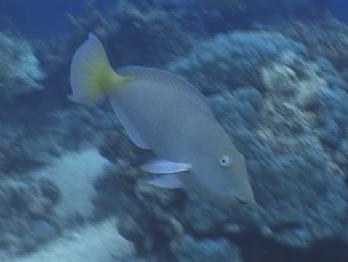Scaridae -Parrotfishes-: (63, 22, 258, 212)
